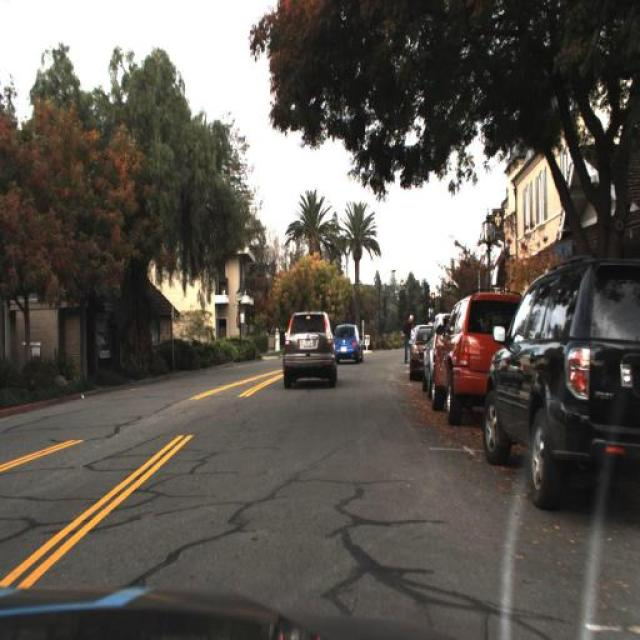car: (481, 255, 640, 513), (428, 287, 524, 429), (279, 310, 335, 385), (330, 323, 362, 363)
trafficLight: (400, 310, 416, 362)
